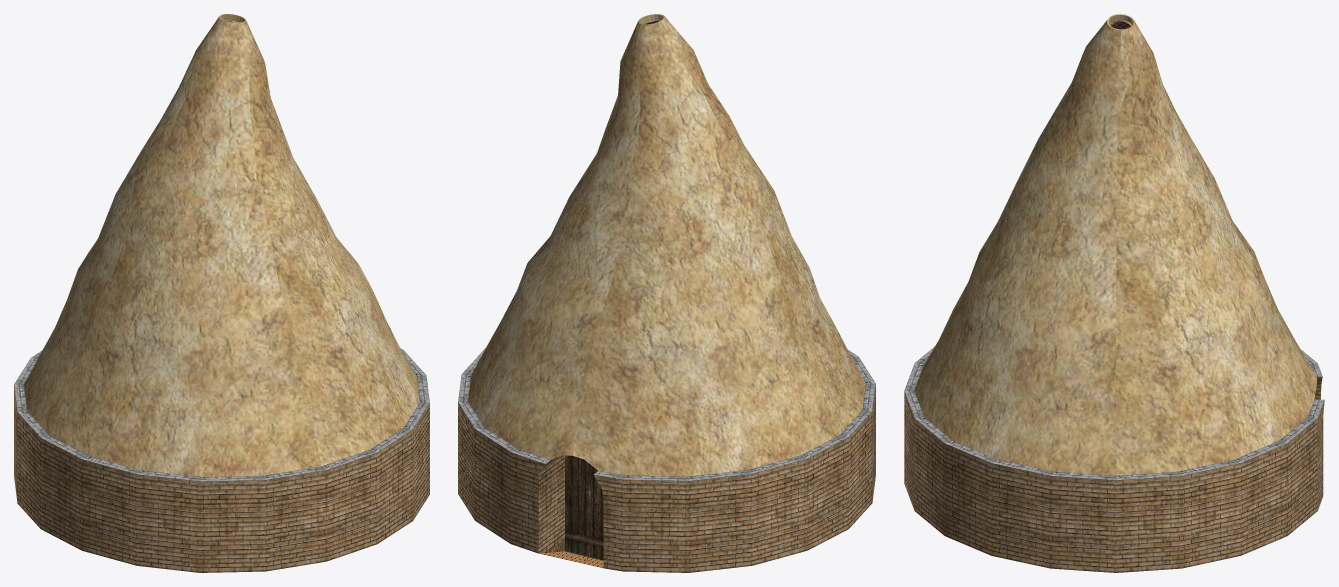
Rendered from pers_ice_house_b.glb.
3 renders of one model, left to right at view 1: azimuth 30°, elevation 25°; view 2: azimuth 150°, elevation 25°; view 3: azimuth 270°, elevation 25°, orthographic.
Bounding box in the file's own units: 15.28 × 19.39 × 15.16.
Materials: 1 (1 with a texture image).
